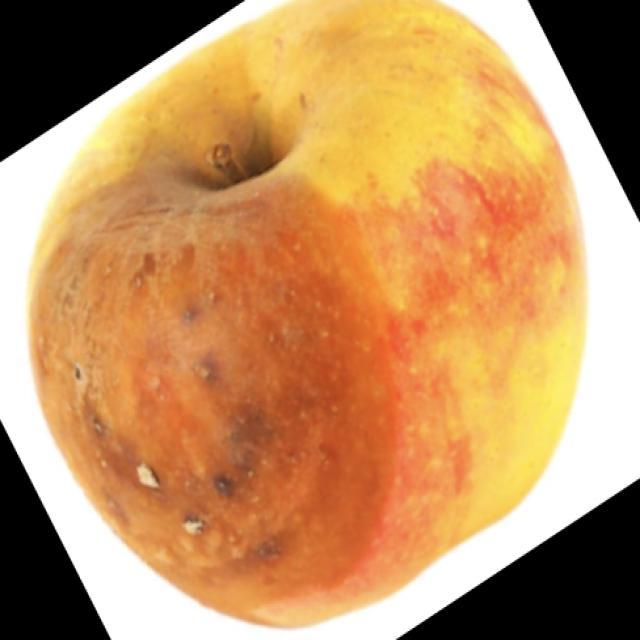Rotten: (39, 0, 584, 627)
